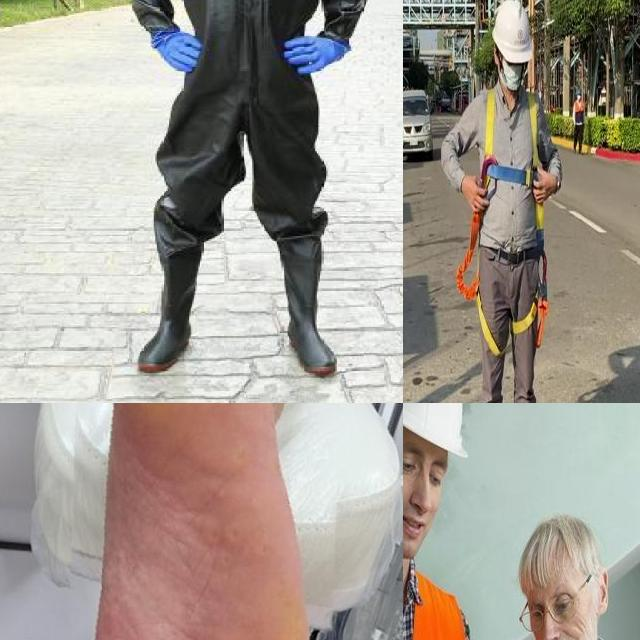Barefoots: (21, 403, 383, 640)
Harness: (456, 213, 549, 358), (482, 88, 540, 188)
boots: (266, 236, 348, 382), (136, 222, 202, 369)
face_nomask: (403, 448, 451, 548), (524, 592, 582, 640)
glasses: (517, 593, 582, 635)
hand_glove: (283, 32, 348, 74), (158, 28, 202, 72)
head_helmet: (403, 403, 478, 464)
head_nohelmet: (512, 514, 597, 586)
person: (140, 0, 367, 394), (403, 403, 492, 640), (490, 514, 640, 640)
